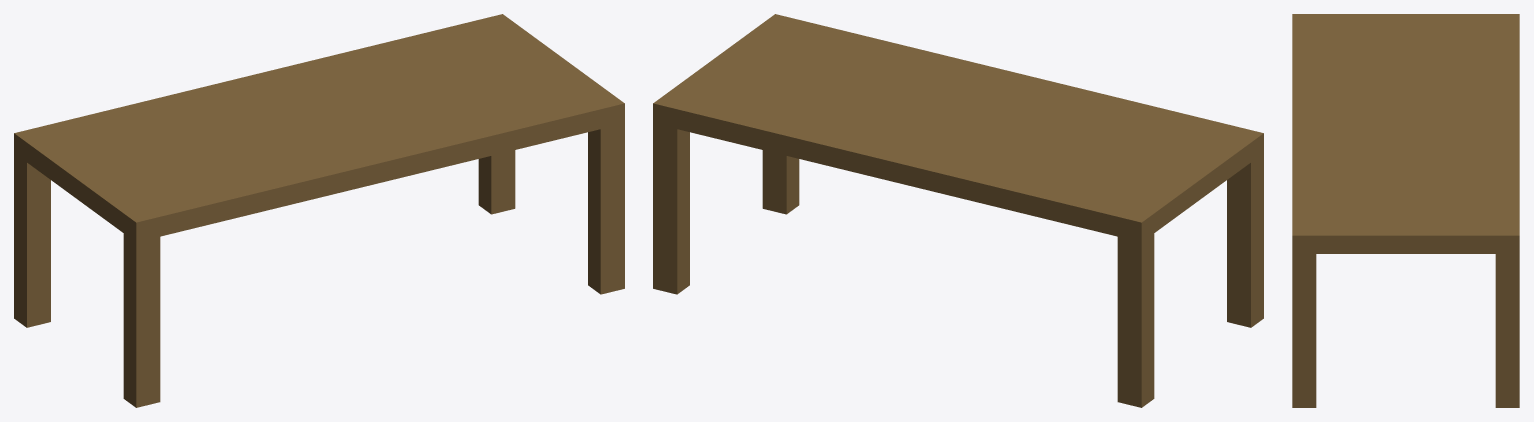
Rendered from Table2.dae.
The picture shows the model from 3 angles, left to right: view 1: azimuth 30°, elevation 25°; view 2: azimuth 150°, elevation 25°; view 3: azimuth 270°, elevation 25°; orthographic projection. The views are drawn at different scales.
Parts seen in each view (by area): view 1: table2; view 2: table2; view 3: table2.
Boxes of the visible parts, x1,y1,x2,y2 form: table2: (14,14,624,407); table2: (653,14,1263,407); table2: (1292,14,1519,407).
Bounding box in the file's own units: 2 × 0.8661 × 0.725.
